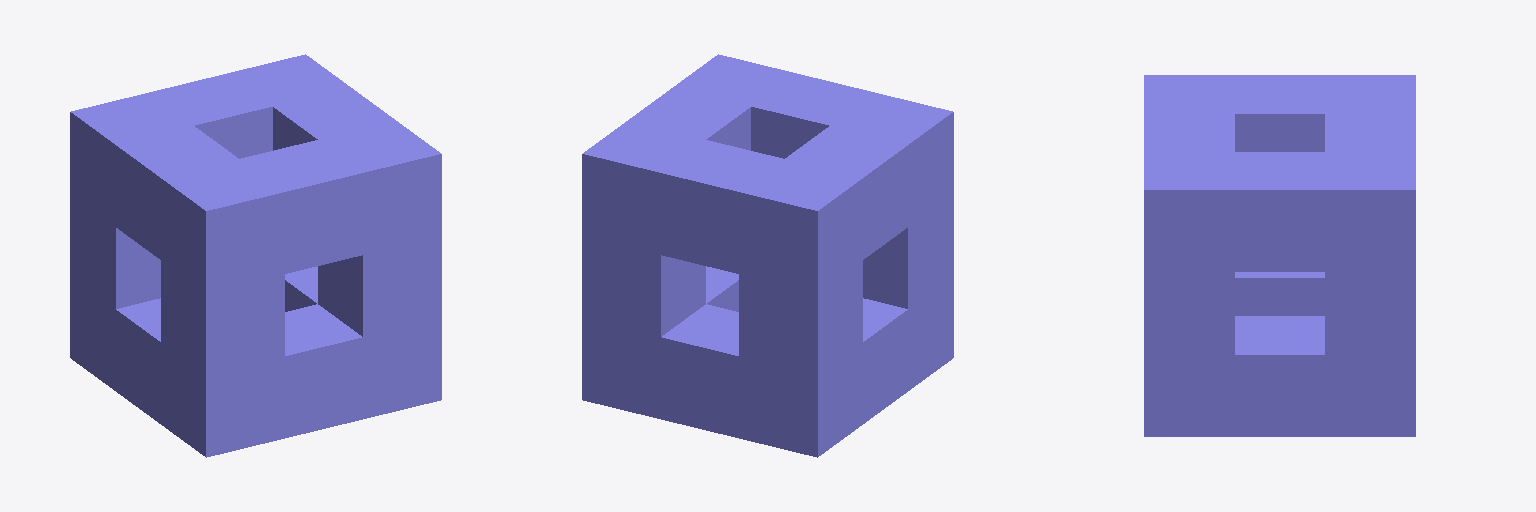
The picture shows the model from 3 angles: view 1: azimuth 30°, elevation 25°; view 2: azimuth 150°, elevation 25°; view 3: azimuth 270°, elevation 25°; orthographic projection.
Visible parts, largest first — view 1: untitled-11; view 2: untitled-11; view 3: untitled-11.
Part boxes in pixels (bbox=[...]): untitled-11: bbox=[70, 54, 441, 457]; untitled-11: bbox=[582, 54, 953, 457]; untitled-11: bbox=[1144, 75, 1415, 436].
Size of the model in its own units: 3 by 3 by 3.
1 materials, 1 textured.